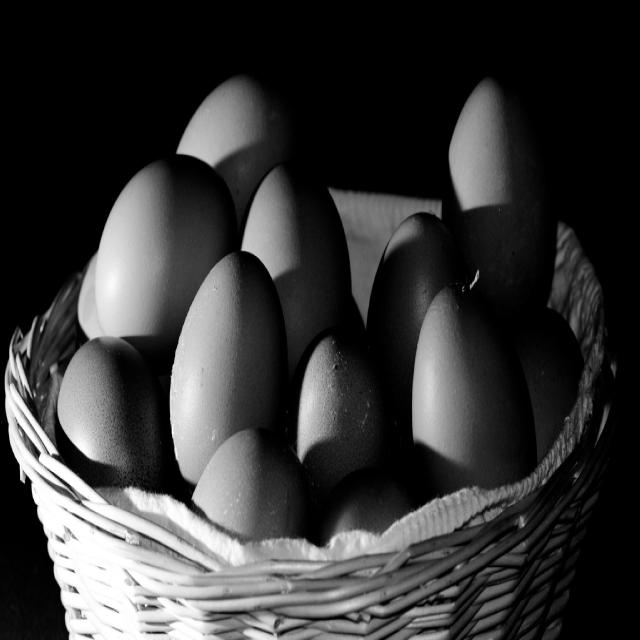Egg: (54, 79, 583, 543), (165, 244, 299, 536)
